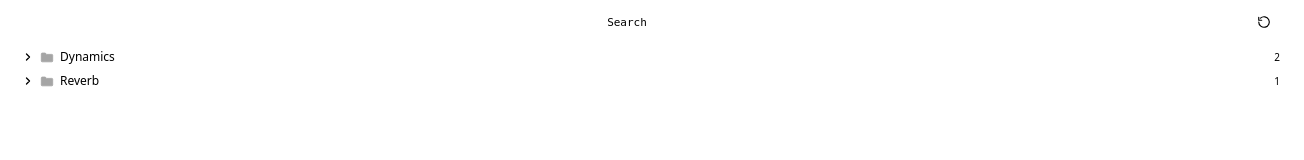
Scenario: the Effects page › shows categories as closed folders, and opens one
Step 1. Click the list item "Dynamics 2" → {"x": 87, "y": 56}, box [12, 45, 1292, 69]
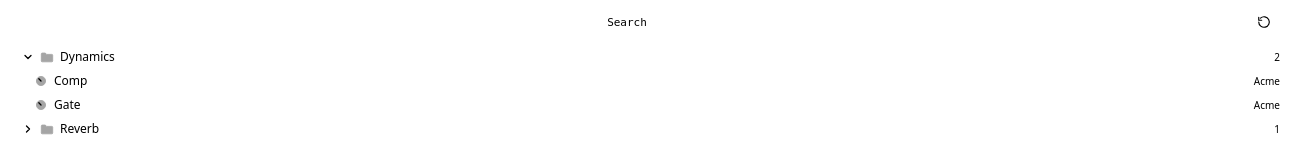
Result: the text "Comp" is shown at [54, 73, 88, 89]
Result: the text "Gate" is shown at [54, 97, 81, 113]
